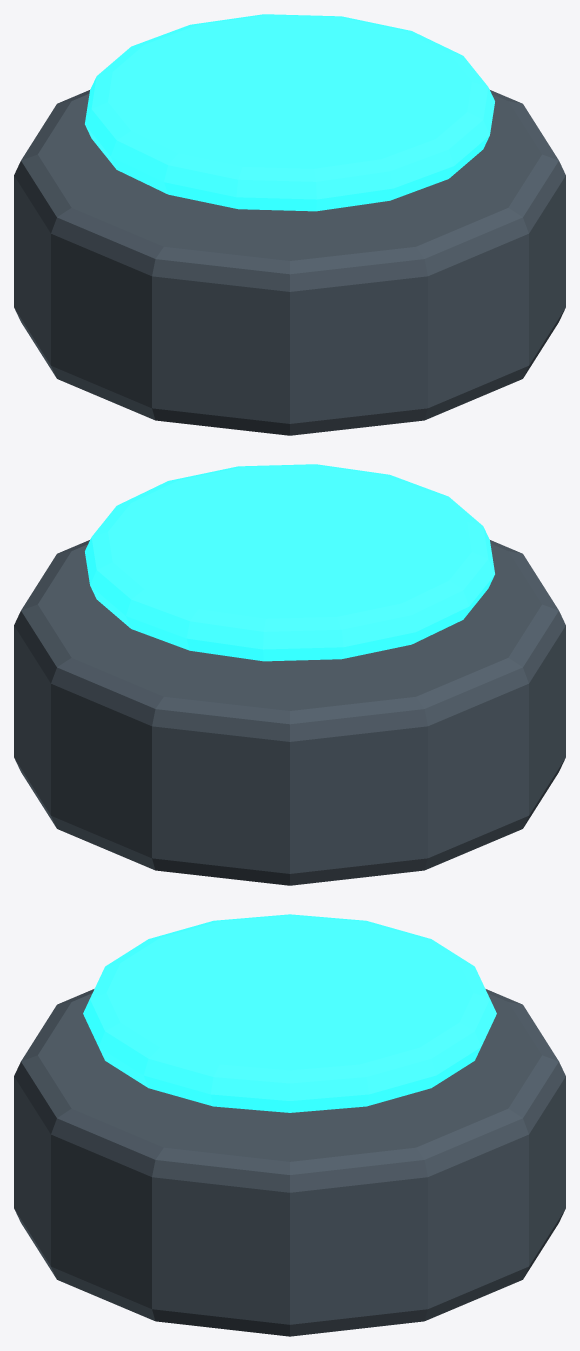
Rendered from Archive-Holo-Projector.glb.
3 renders of one model, top to bottom at view 1: azimuth 30°, elevation 25°; view 2: azimuth 150°, elevation 25°; view 3: azimuth 270°, elevation 25°, orthographic.
Visible parts, largest first — view 1: Hologram_Projector, Hologram_Ring; view 2: Hologram_Projector, Hologram_Ring; view 3: Hologram_Projector, Hologram_Ring.
Boxes of the visible parts, x1,y1,x2,y2 form: Hologram_Projector: (14, 90, 565, 435); Hologram_Ring: (85, 14, 494, 211); Hologram_Projector: (14, 540, 565, 885); Hologram_Ring: (85, 464, 494, 661); Hologram_Projector: (14, 989, 565, 1336); Hologram_Ring: (83, 914, 496, 1112).
Size of the model in its own units: 1.44 by 0.68 by 1.44.
